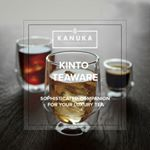cups: (43, 48, 101, 141), (102, 56, 136, 101)
